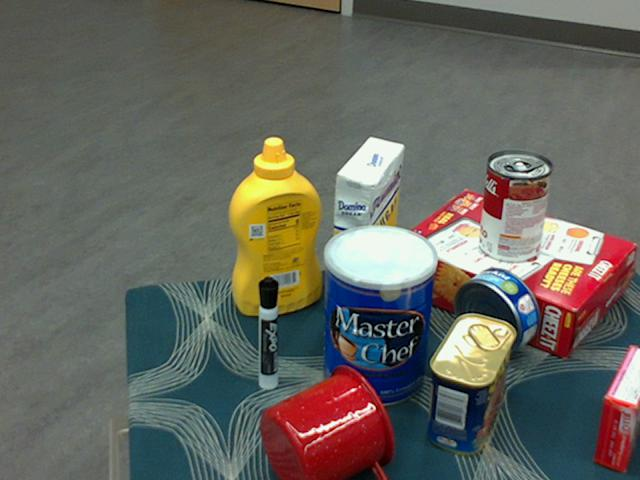cracker_box: (391, 192, 632, 355)
gelatin_box: (592, 346, 639, 472)
large_marker: (256, 275, 277, 390)
master_chef_can: (323, 225, 439, 408)
mug: (259, 365, 396, 479)
mustard_bottle: (228, 137, 321, 316)
potted_meat_can: (427, 314, 516, 455)
sugar_box: (327, 138, 405, 326)
tomato_soup_can: (479, 152, 552, 265)
tuna_fish_can: (455, 267, 541, 355)
